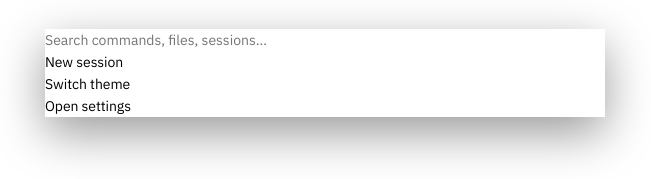
Test: CommandPalette › filters commands by the query
Type "theme" into the dropdown with placeholder "Search commands, files, sessions…" at coordinates (325, 40), box [45,29,605,51]
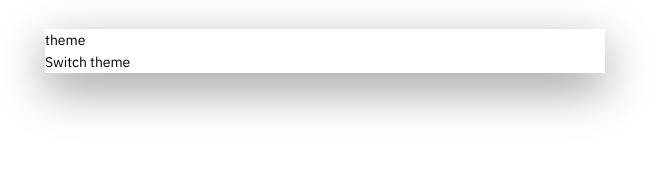
Expected: the text "Switch theme" is shown, [45,51,130,73]
Expected: the option "New session" is gone
